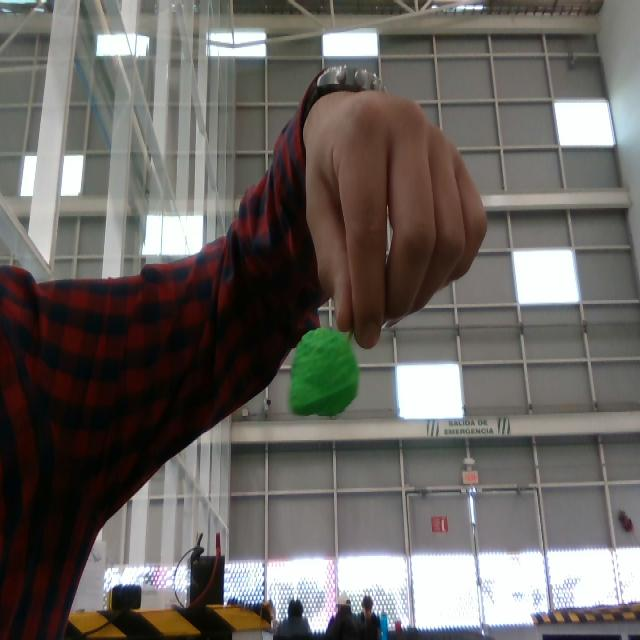verde: (287, 323, 361, 422)
